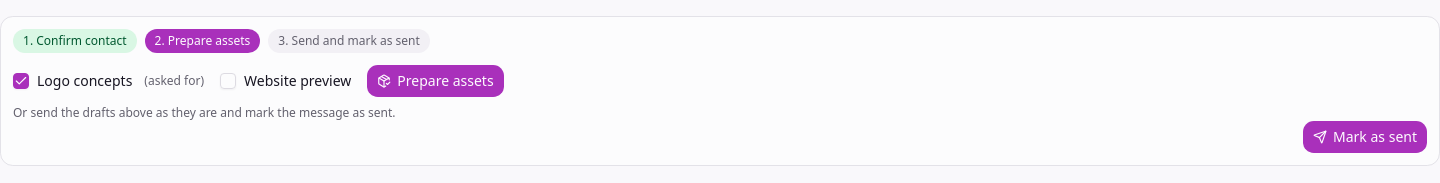
Test: ManualSteps › cannot prepare with nothing chosen
Click the checkbox named "Logo concepts" next to "Logo concepts" at [21, 81], box [13,73,29,89]
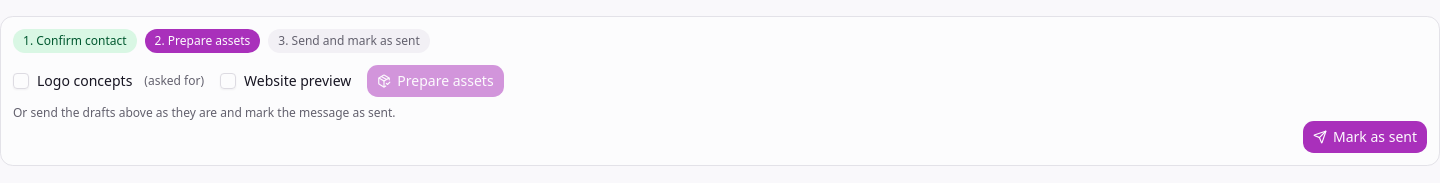
Check: the button "Prepare assets" is disabled, box [367,65,504,97]
